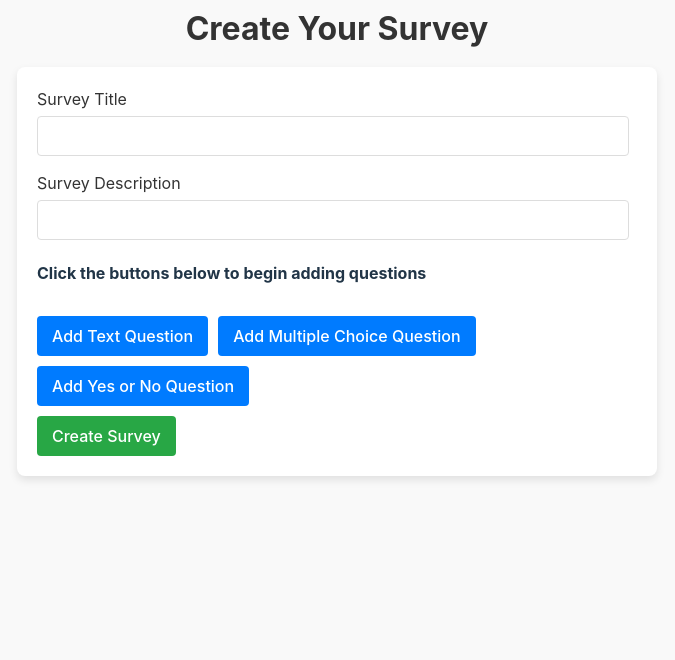
Scenario: NewSurveyForm component › adds a new TEXT question
Click the button "Add Text Question". click: (123, 336)
box: [37, 316, 208, 356]
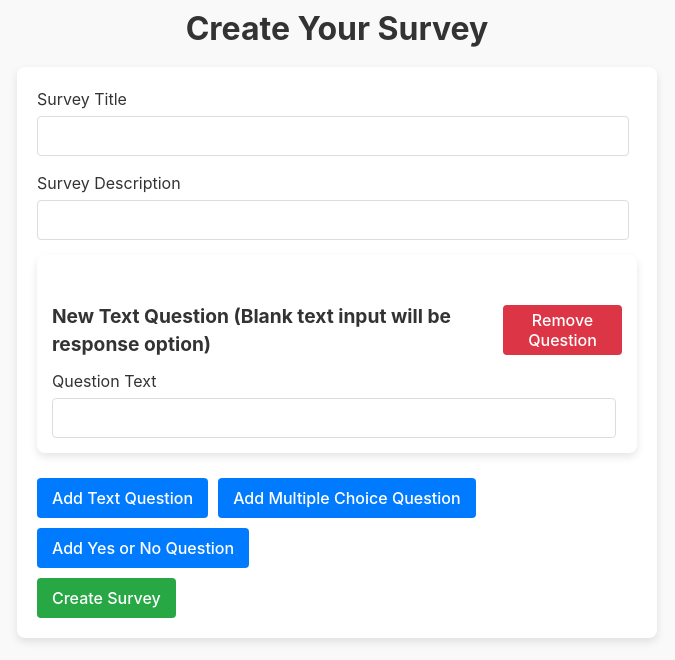
Expected: the heading "New Text Question (Blank text input will be response option)" is shown, [52, 304, 451, 356]
Expected: the button "Remove Question" is shown, [503, 306, 622, 356]
